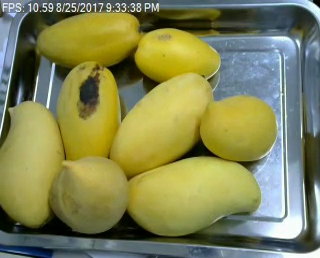Mango: (109, 72, 214, 176), (127, 155, 263, 234), (0, 99, 64, 225), (35, 9, 142, 70), (57, 61, 120, 159), (47, 156, 126, 232), (199, 95, 279, 160), (136, 26, 221, 85)
